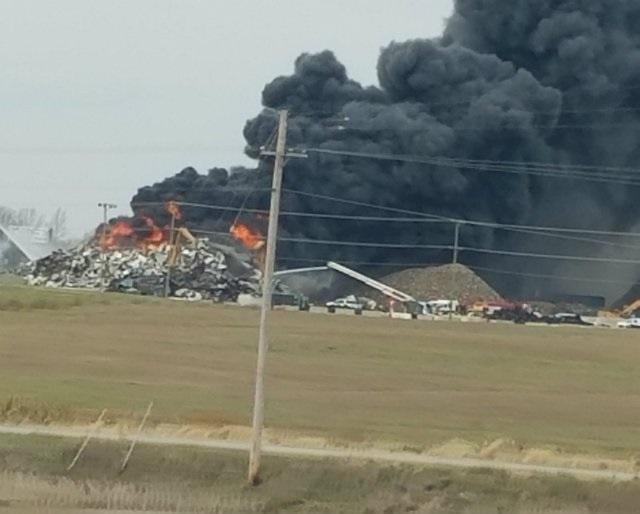fire: (98, 218, 174, 249), (229, 222, 263, 248)
smoke: (412, 43, 595, 205)
